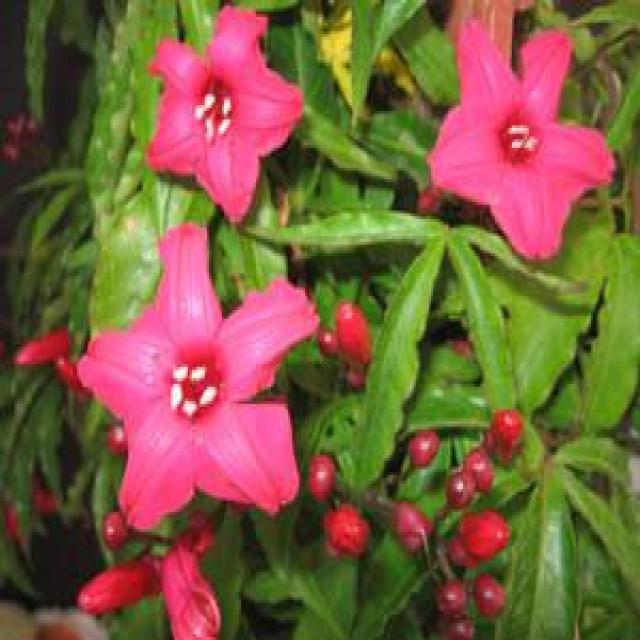organic waste: (74, 220, 319, 522), (418, 24, 615, 258), (148, 23, 308, 219)
